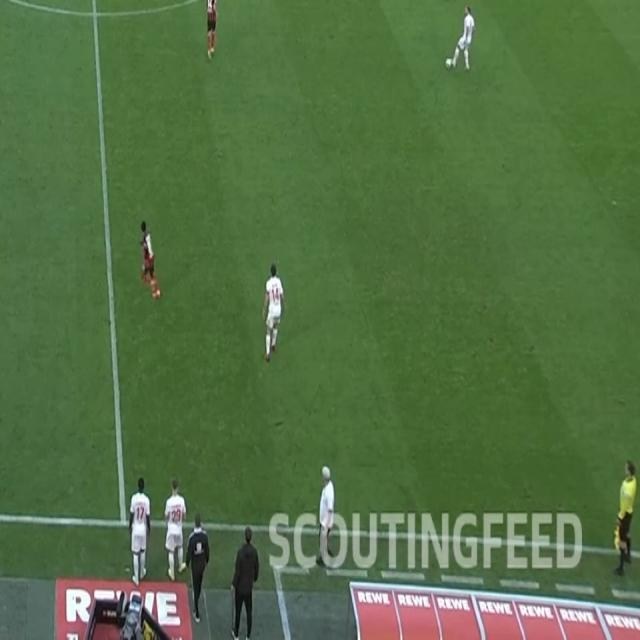ball: (445, 56, 452, 68)
